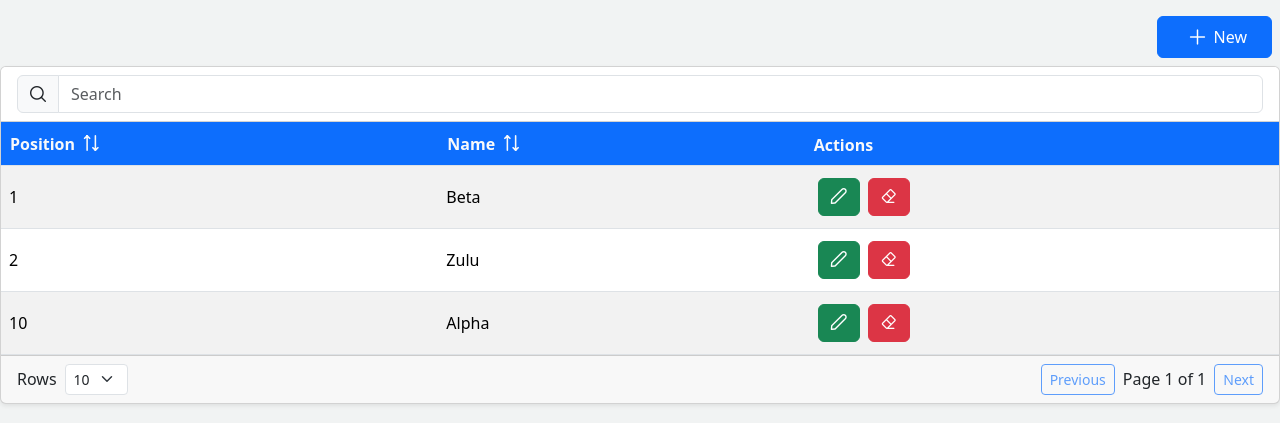
Test: TableComponent › renders a dedicated empty state when the search returns no matches
Type "does-not-exist" into the search field with id "table-search" at (660,94), box [58,75,1263,113]
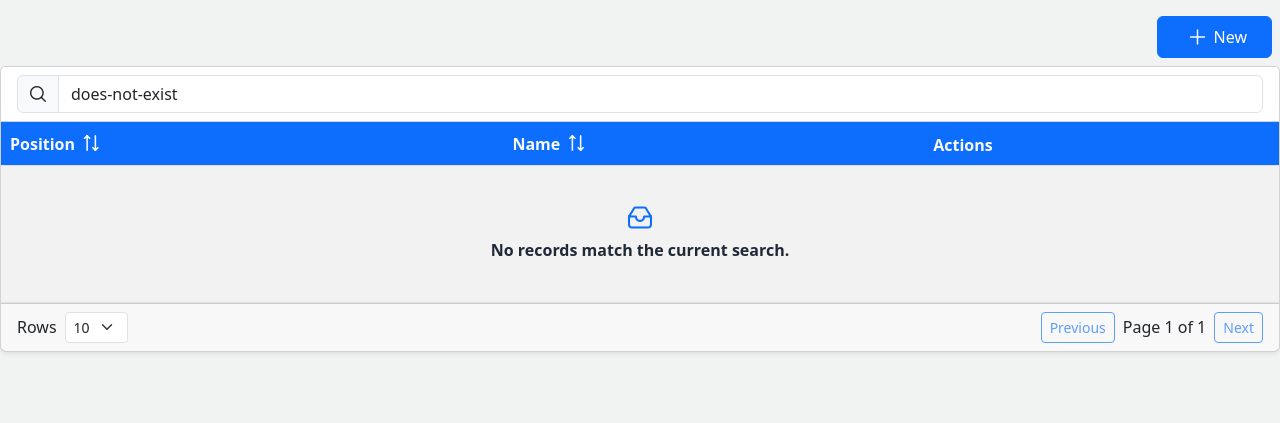
Expected: the text "No records match the current search." is shown, [491,238,789,262]
